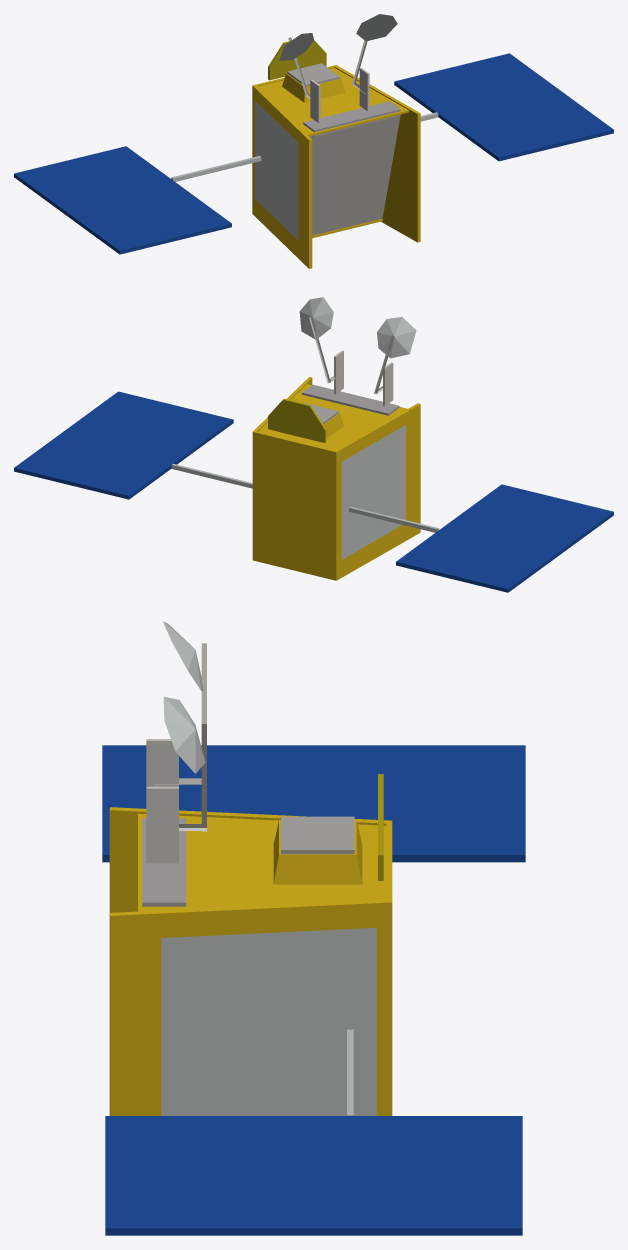
File: oneweb_low.gltf
3 renders of one model, top to bottom at view 1: azimuth 30°, elevation 25°; view 2: azimuth 150°, elevation 25°; view 3: azimuth 270°, elevation 25°, orthographic. The views are drawn at different scales.
Parts seen in each view (by area): view 1: Cube.024, Cube.175, Cube, Cube.220, Cube.016, Cube.001, Cube.008, Cube.019, Cube.003, Cone, Cube.004, Cone.001 (+3 smaller); view 2: Cube, Cube.024, Cube.175, Cube.016, Cube.001, Cube.019, Cone.001, Cube.008, Cone, Cube.120, Cube.020, Cube.011; view 3: Cube.024, Cube.013, Cube.175, Cube, Cube.001, Cube.003, Cube.004, Cube.028, Cube.008, Cone, Cube.011, Cone.001.
Boxes of the visible parts, x1,y1,x2,y2 form: Cube.024: (394,53,613,161); Cube.175: (14,146,231,254); Cube: (252,65,420,268); Cube.220: (309,116,400,235); Cube.016: (255,101,298,240); Cube.001: (258,68,409,136); Cube.008: (303,101,400,136); Cube.019: (268,40,326,80); Cube.003: (282,73,345,102); Cone: (356,14,397,41); Cube.004: (287,63,339,86); Cone.001: (279,33,313,60); Cube: (252,377,420,580); Cube.024: (14,391,233,499); Cube.175: (396,484,613,592); Cube.016: (342,425,405,559); Cube.001: (258,384,407,450); Cube.019: (268,398,326,442); Cone.001: (377,317,416,358); Cube.008: (302,384,399,415); Cone: (299,297,333,339); Cube.120: (349,506,439,532); Cube.020: (171,463,252,488); Cube.011: (383,362,393,405); Cube.024: (105,1116,522,1235); Cube.013: (161,927,376,1115); Cube.175: (102,745,525,862); Cube: (109,807,392,1115); Cube.001: (138,813,386,911); Cube.003: (273,820,362,884); Cube.004: (281,816,354,854); Cube.028: (146,786,178,863); Cube.008: (142,818,186,906); Cone: (163,697,205,773); Cube.011: (146,739,178,786); Cone.001: (163,621,203,690).
Size of the model in its own units: 8.06 by 3.5 by 2.98.
